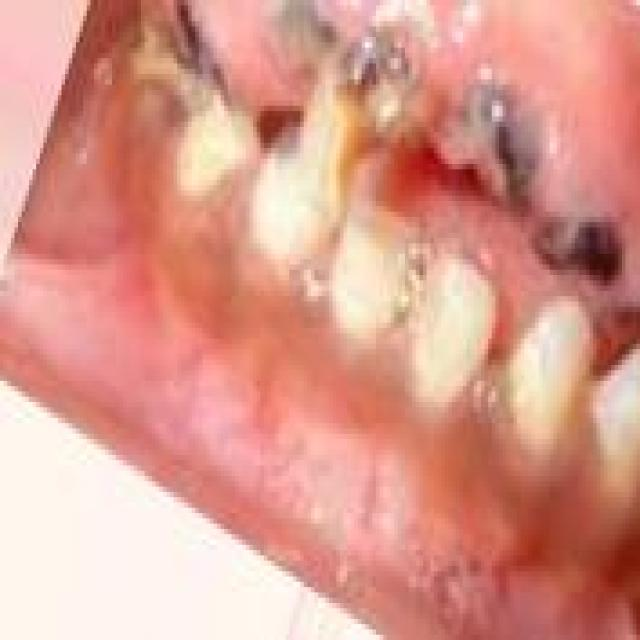caries: (304, 23, 414, 216), (434, 68, 548, 220), (528, 189, 627, 295), (165, 0, 237, 136)
